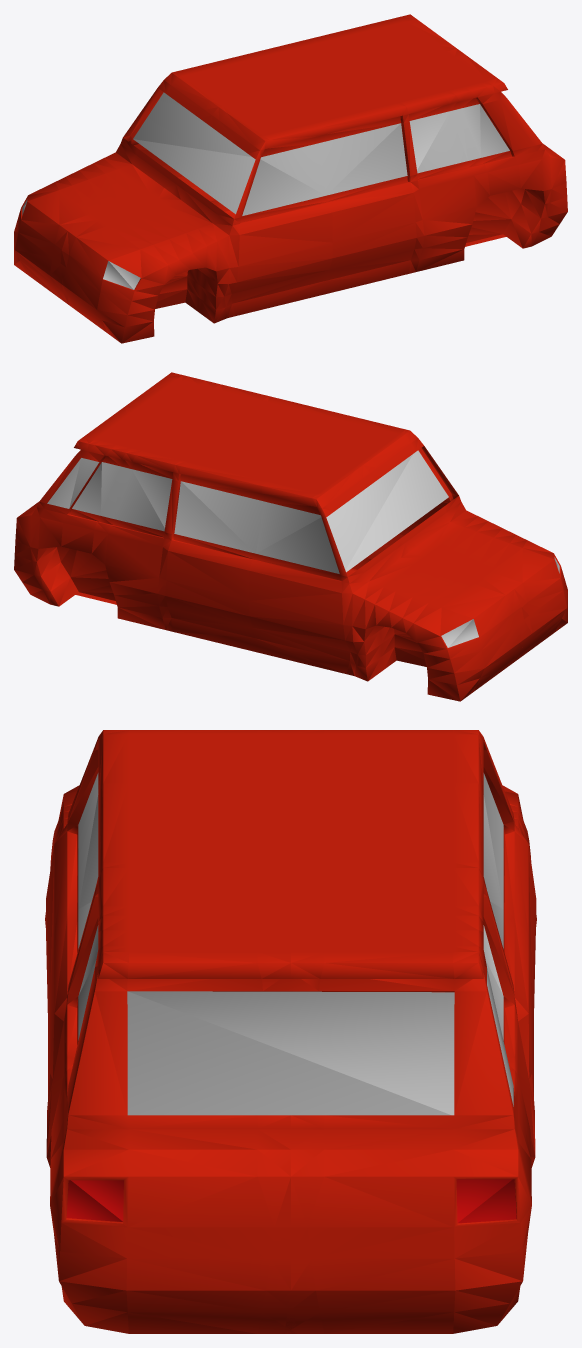
The model's file is voiture1.obj.
The picture shows the model from 3 angles, top to bottom: view 1: azimuth 30°, elevation 25°; view 2: azimuth 150°, elevation 25°; view 3: azimuth 270°, elevation 25°; orthographic projection. The views are drawn at different scales.
Parts seen in each view (by area): view 1: Cube; view 2: Cube; view 3: Cube.
Boxes of the visible parts, x1,y1,x2,y2 form: Cube: (14, 14, 567, 343); Cube: (14, 372, 567, 701); Cube: (45, 730, 536, 1333).
Bounding box in the file's own units: 11.58 × 3.83 × 5.32.
